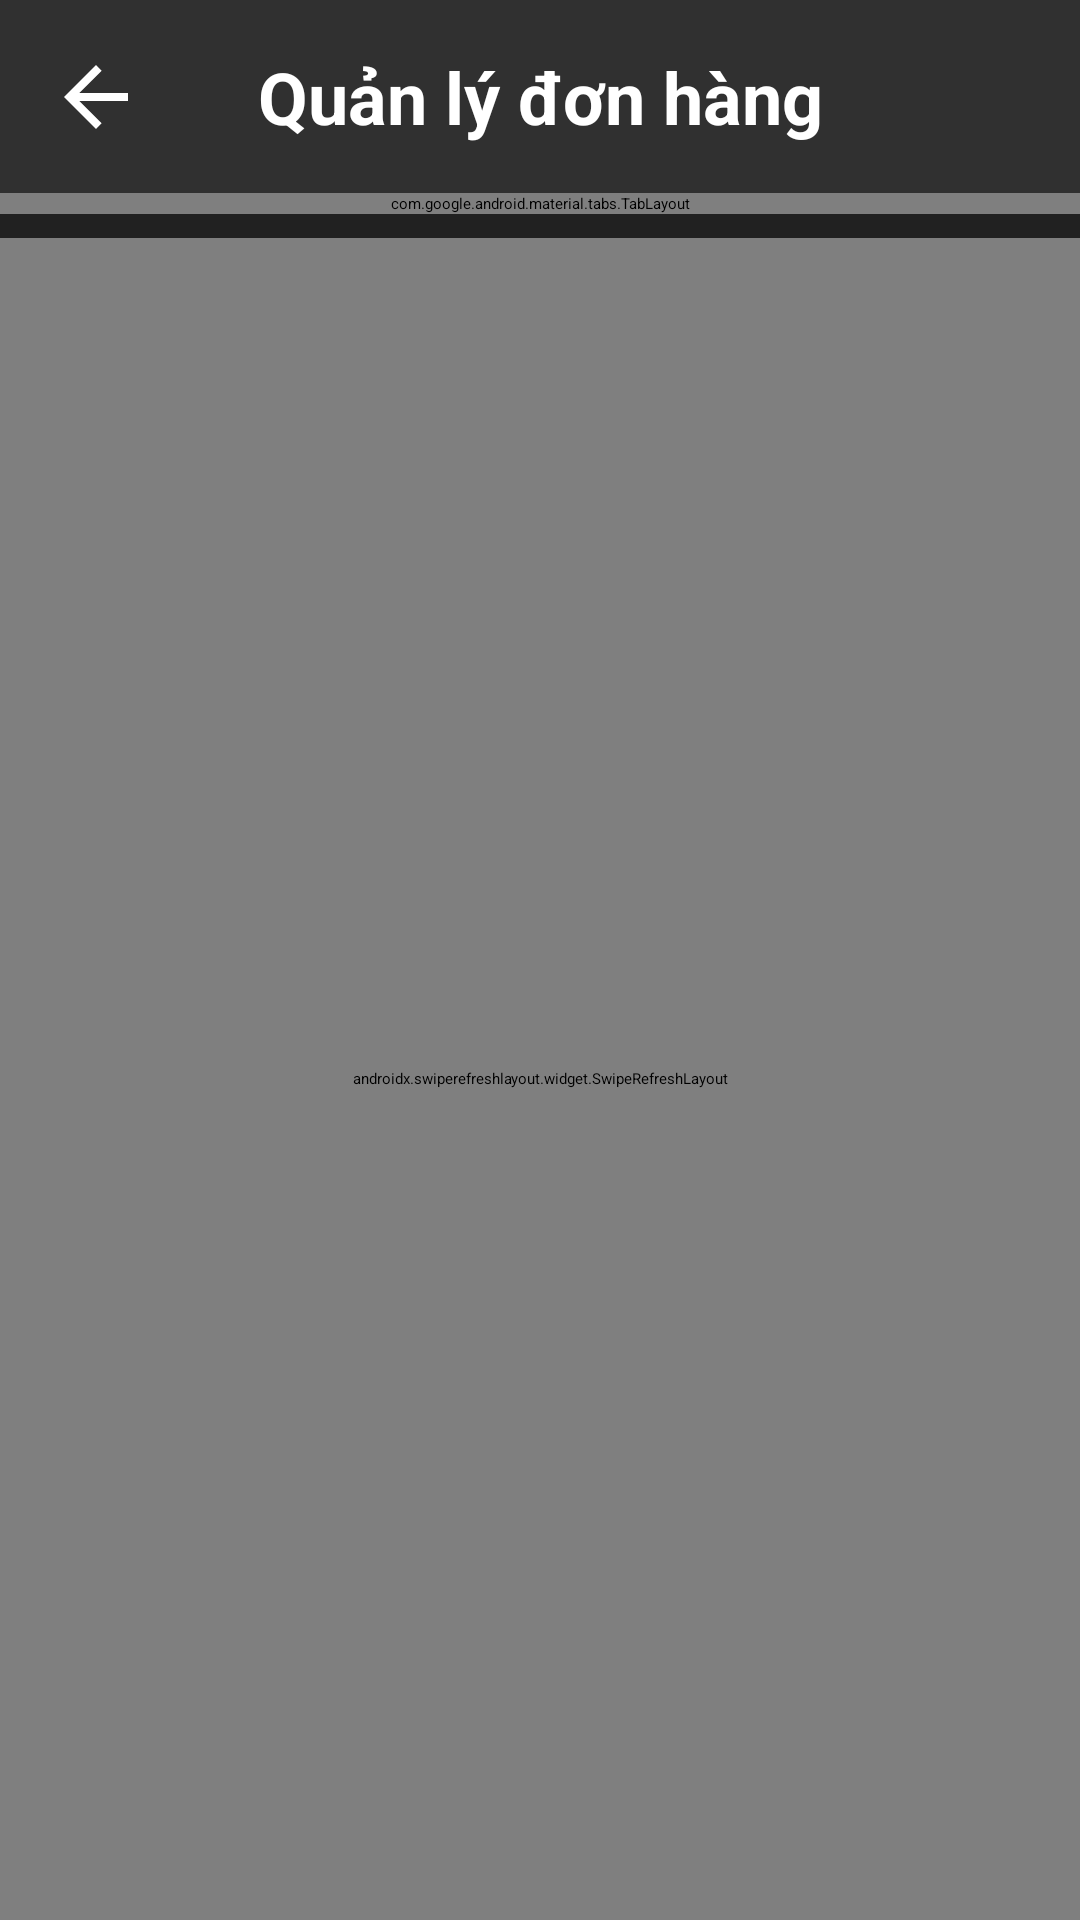

Icons on this 1080px×1920px Android screen, each with its box as detection(x1, y1, x2, y2):
arrow back: detection(64, 65, 128, 129)
